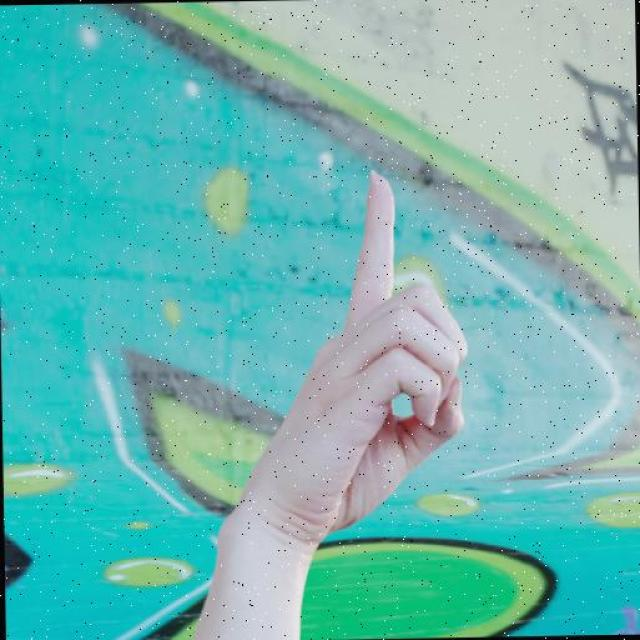D: (206, 166, 474, 556)
